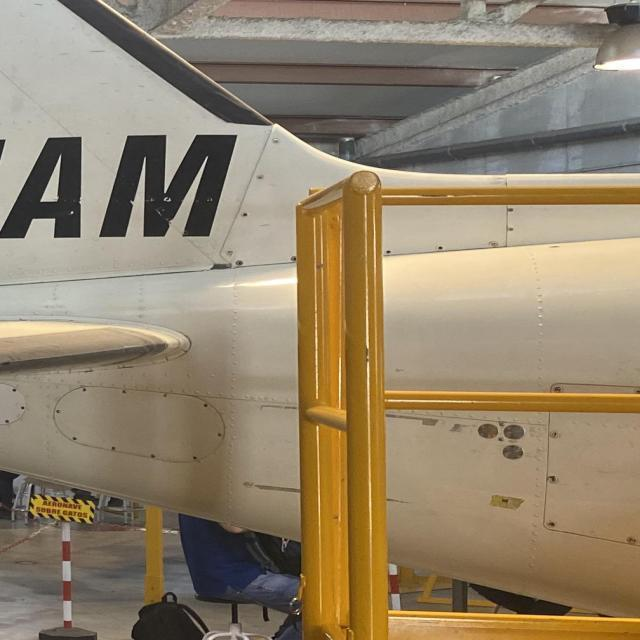Missing-head: (239, 210, 251, 219), (234, 260, 246, 266), (435, 245, 446, 251), (191, 456, 198, 460), (110, 446, 117, 450), (4, 419, 11, 423), (385, 250, 391, 254), (11, 388, 17, 392), (21, 406, 25, 410)
